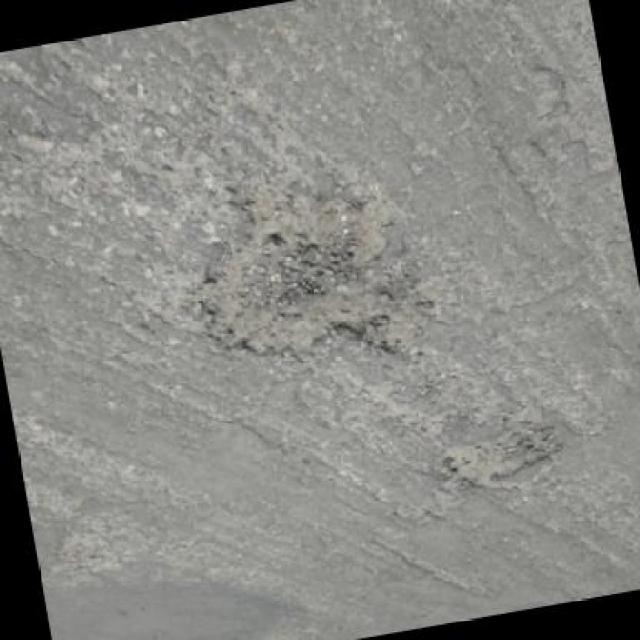pothole1: (181, 158, 437, 392), (435, 416, 574, 502)
